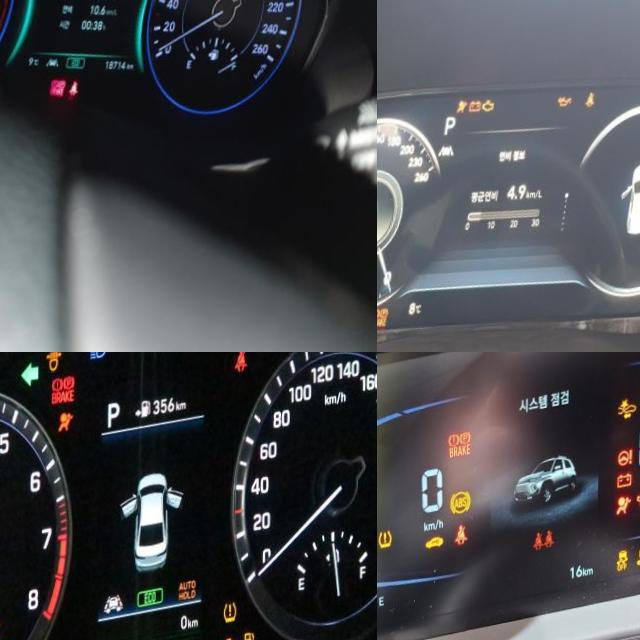FrontFogLight: (158, 352, 171, 362)
LaneCenteringOff: (103, 602, 125, 626)
SideLamp: (134, 352, 151, 363)
